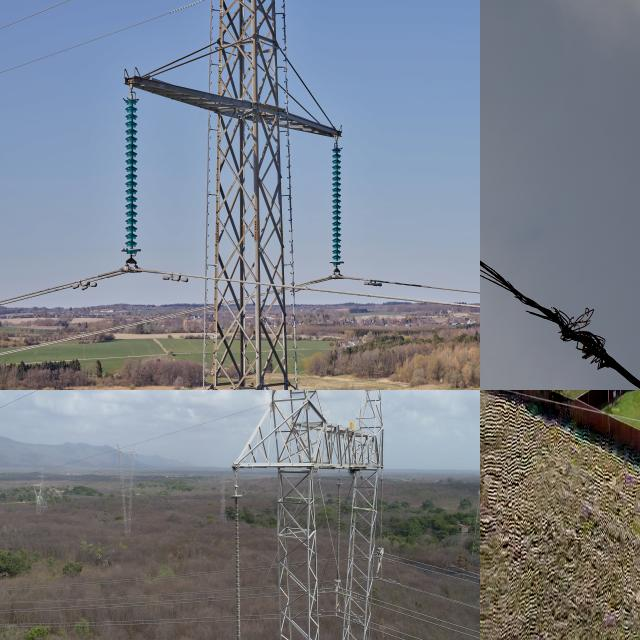杆塔: (238, 390, 385, 640), (209, 0, 299, 390), (105, 432, 144, 541), (468, 485, 480, 569), (31, 465, 49, 518)
正常电缆: (0, 303, 198, 363), (357, 265, 480, 319), (0, 263, 123, 315), (0, 588, 224, 605), (379, 598, 480, 635), (378, 604, 480, 640), (380, 576, 480, 611), (383, 556, 480, 586), (386, 552, 480, 580), (0, 617, 224, 627), (376, 622, 431, 640)
正常绝缘子: (122, 96, 141, 264), (329, 144, 345, 274), (230, 492, 244, 640), (334, 482, 344, 585)
电缆破损: (480, 195, 631, 389)
